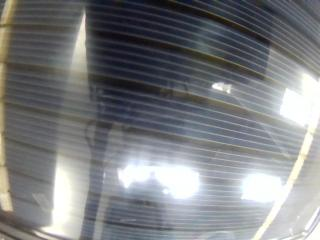crack: (262, 123, 290, 158), (120, 219, 136, 223)
solarboard: (0, 0, 320, 240)
